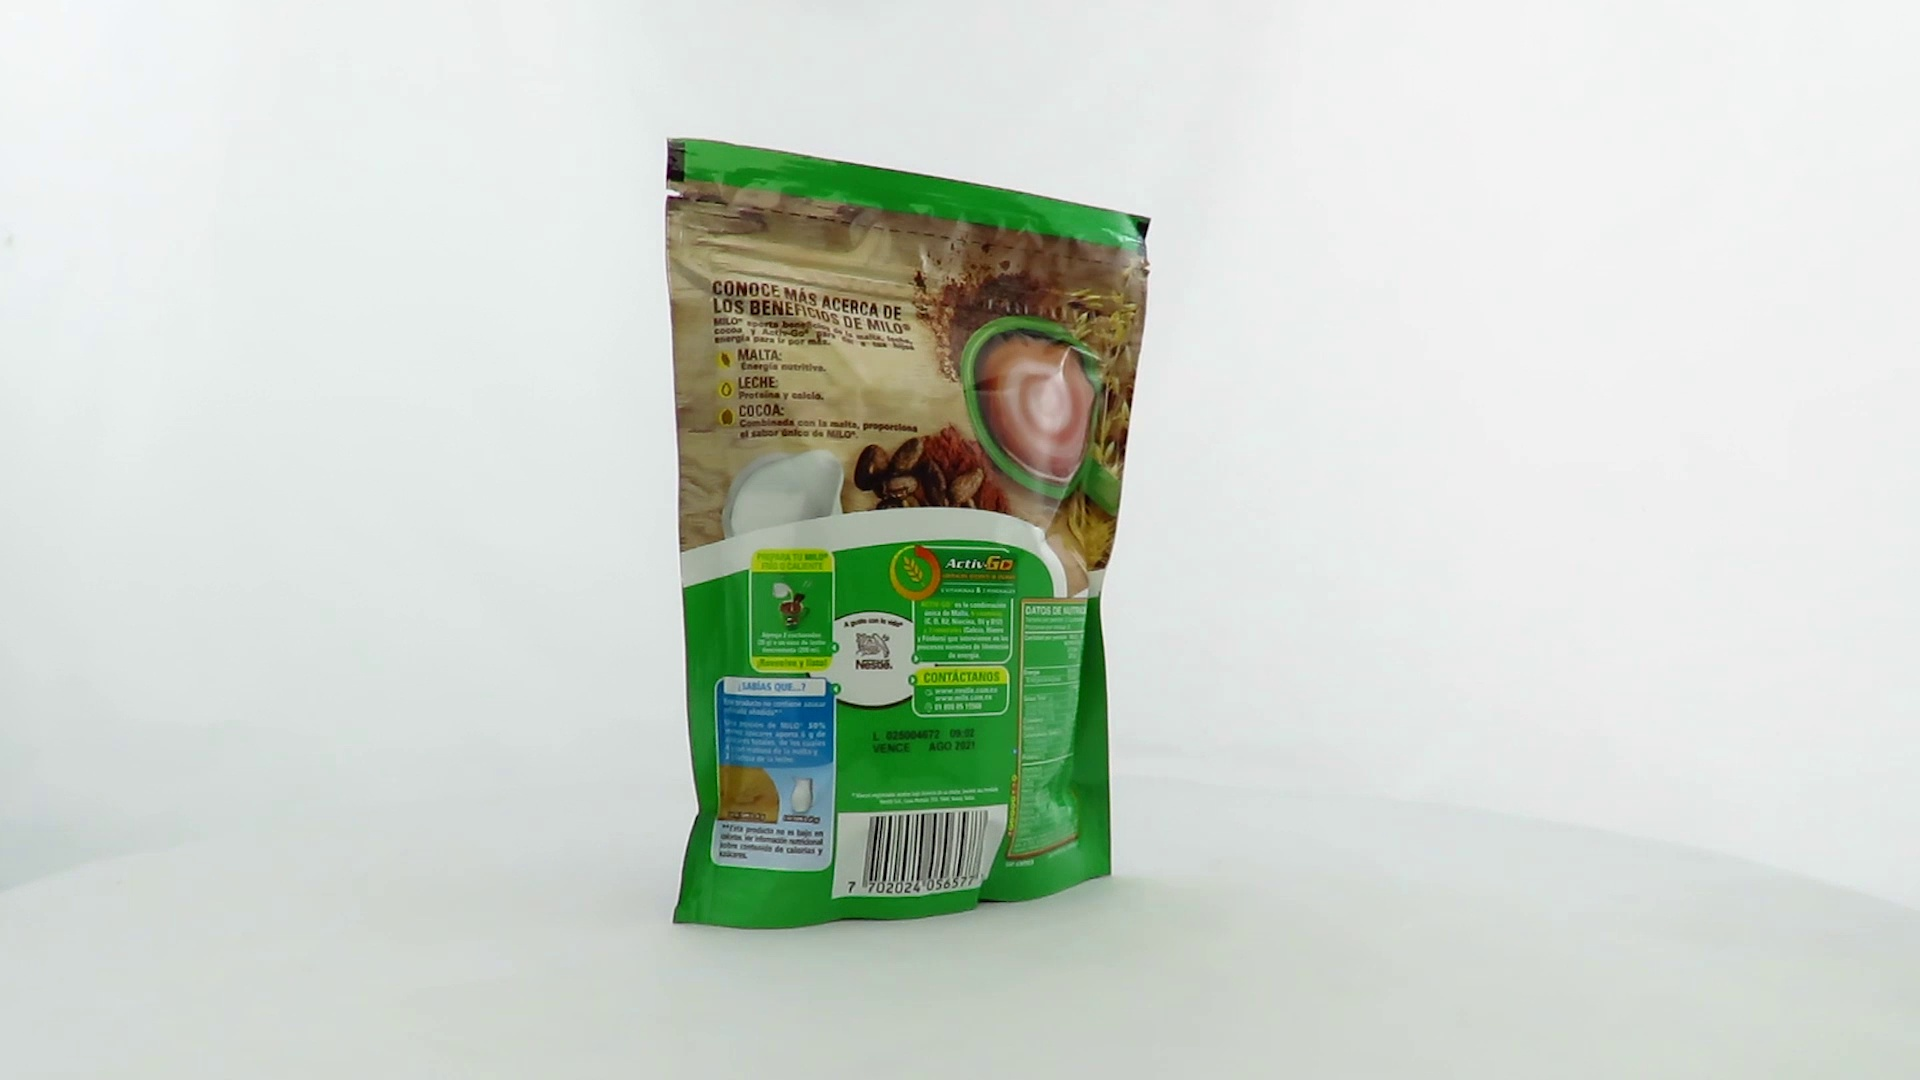COL0170205DYP20000: (659, 132, 1156, 936)
